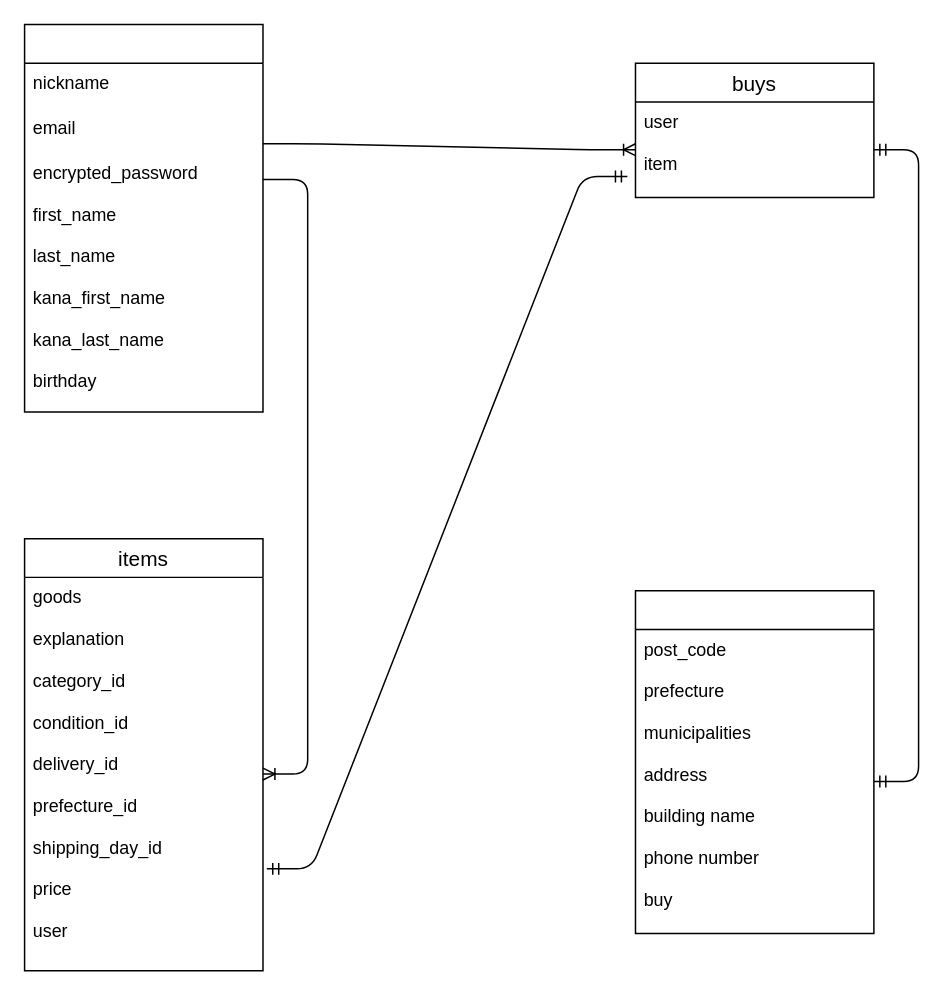
The diagram is 943 pixels wide and 995 high, and some of its shapes have lost their labels. The box of each missing label's shape, as (x1, y1, x2, y2) in pixels:
partners: (634, 589, 874, 933)
user: (23, 23, 263, 412)
